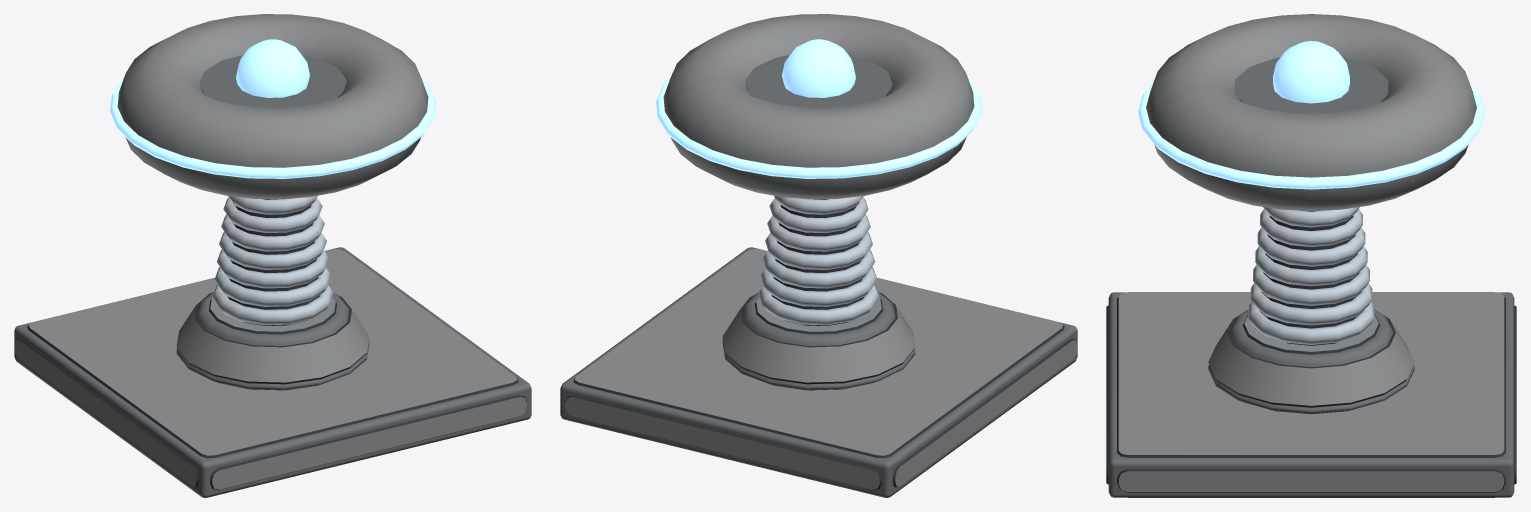
File: R4X_AreaEMP.glb
3 views of the same model, side by side, from view 1: azimuth 30°, elevation 25°; view 2: azimuth 150°, elevation 25°; view 3: azimuth 270°, elevation 25° (orthographic). The views are drawn at different scales.
Visible parts, largest first — view 1: R4X_AreaEMP_Body; view 2: R4X_AreaEMP_Body; view 3: R4X_AreaEMP_Body.
Part boxes in pixels (<box>): R4X_AreaEMP_Body: <box>14,14,531,497</box>; R4X_AreaEMP_Body: <box>560,14,1077,497</box>; R4X_AreaEMP_Body: <box>1106,14,1516,497</box>.
Bounding box in the file's own units: 0.52 × 0.52 × 0.52.
